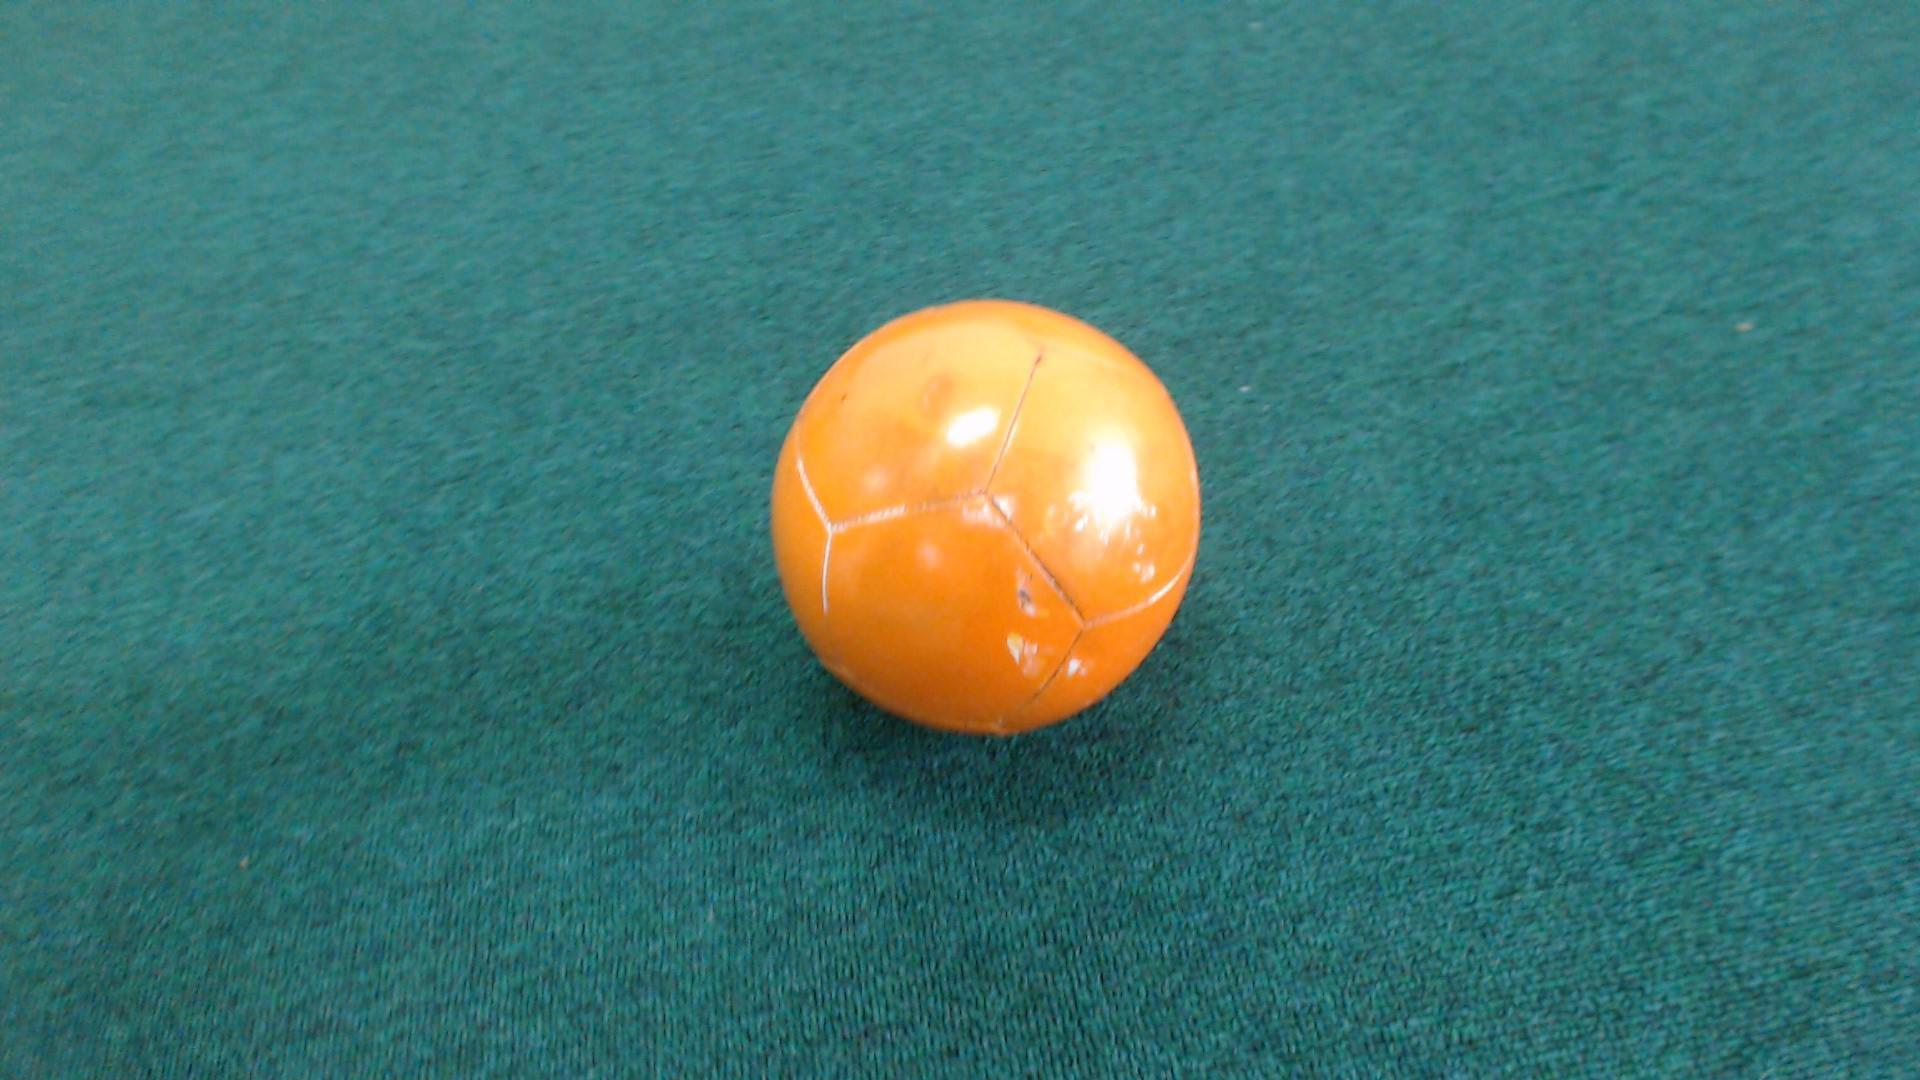bola: (728, 281, 1241, 761)
